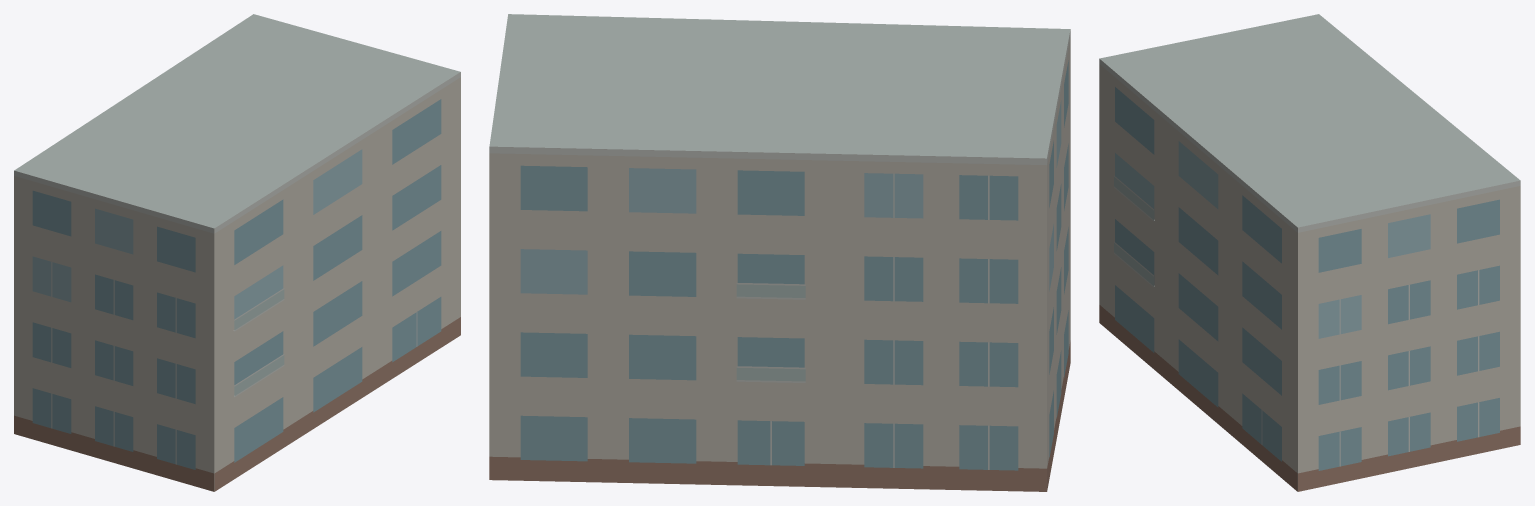
File: survey-upis-32704015.glb
3 renders of one model, left to right at view 1: azimuth 30°, elevation 25°; view 2: azimuth 150°, elevation 25°; view 3: azimuth 270°, elevation 25°, orthographic. The views are drawn at different scales.
Visible parts, largest first — view 1: survey-upis-32704015.tmp; view 2: survey-upis-32704015.tmp; view 3: survey-upis-32704015.tmp.
Boxes of the visible parts, left/top/right/bottom form: survey-upis-32704015.tmp: left=14, top=14, right=460, bottom=491; survey-upis-32704015.tmp: left=489, top=14, right=1070, bottom=491; survey-upis-32704015.tmp: left=1099, top=14, right=1520, bottom=491.
Size of the model in its own units: 21.15 by 12.2 by 17.64.
